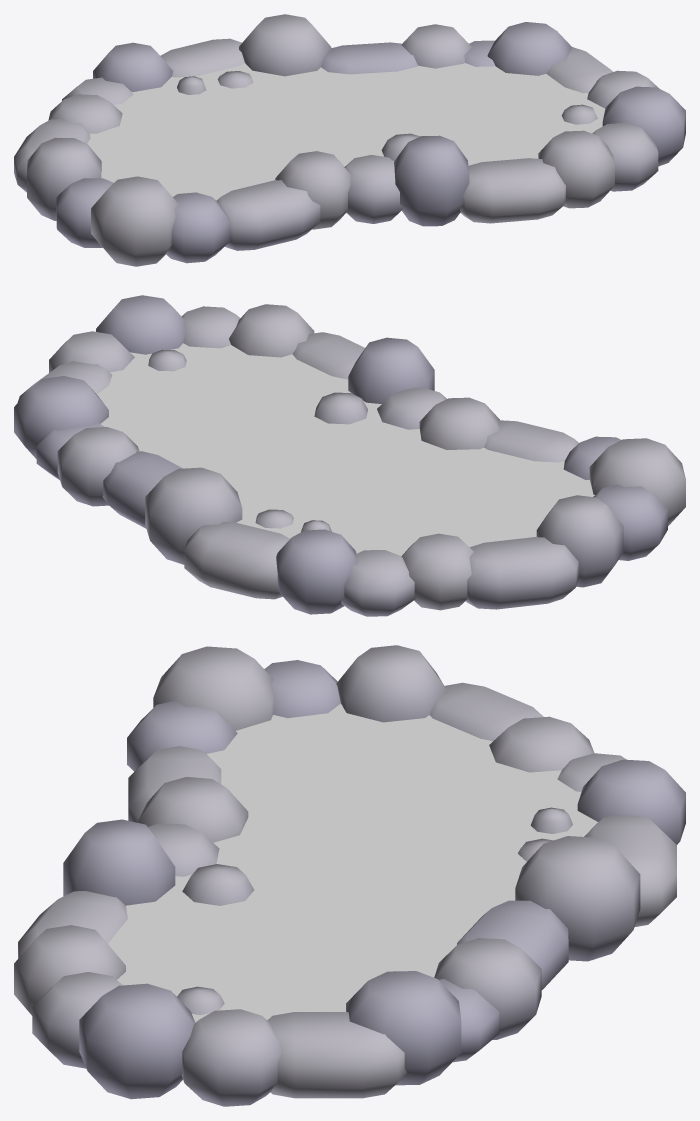
File: pond.glb
3 renders of one model, top to bottom at view 1: azimuth 30°, elevation 25°; view 2: azimuth 150°, elevation 25°; view 3: azimuth 270°, elevation 25°, orthographic. The views are drawn at different scales.
Visible parts, largest first — view 1: pond; view 2: pond; view 3: pond.
Boxes of the visible parts, bbox=[...] form: pond: bbox=[14, 14, 685, 266]; pond: bbox=[14, 295, 685, 616]; pond: bbox=[14, 645, 685, 1106].
Bounding box in the file's own units: 2.37 × 0.2788 × 1.71.
